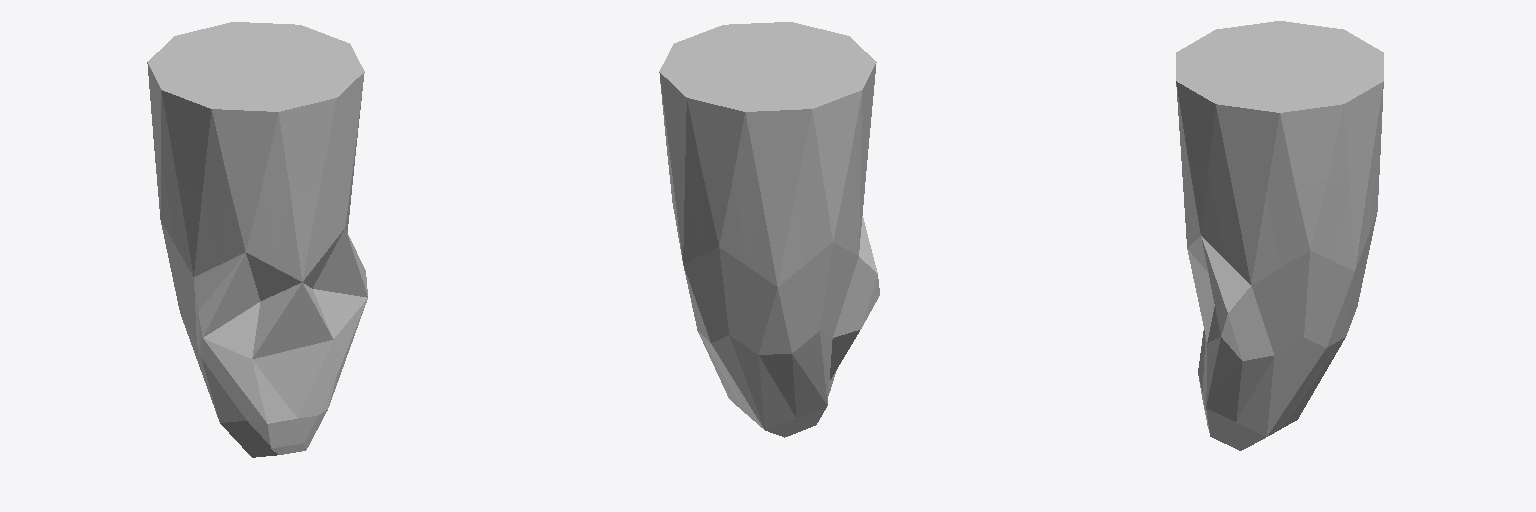
File: tiki_inverted_alert.obj
3 views of the same model, side by side, from view 1: azimuth 30°, elevation 25°; view 2: azimuth 150°, elevation 25°; view 3: azimuth 270°, elevation 25° (orthographic).
Parts seen in each view (by area): view 1: Icosphere; view 2: Icosphere; view 3: Icosphere.
Boxes of the visible parts, x1,y1,x2,y2 form: Icosphere: [147, 22, 367, 457]; Icosphere: [659, 22, 879, 437]; Icosphere: [1176, 21, 1383, 450].
Size of the model in its own units: 1.29 by 2.47 by 1.23.